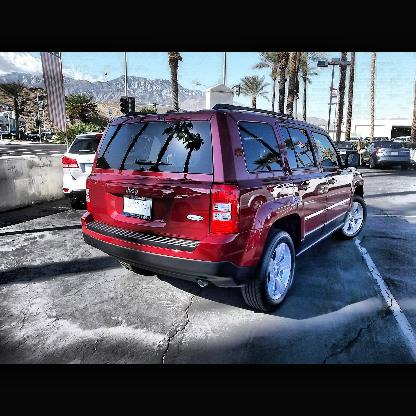Jeep Patriot SUV 2012: (82, 103, 369, 307)
